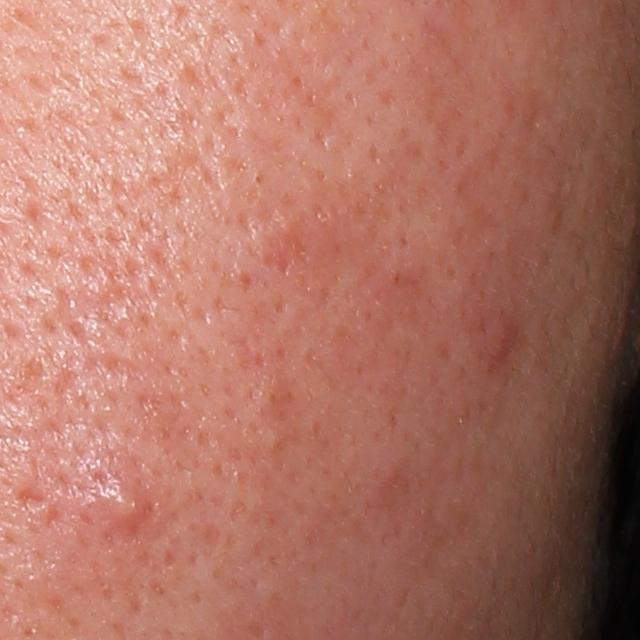atrophic_scar: (261, 214, 316, 279), (12, 487, 50, 513)
papule: (80, 468, 153, 547)
